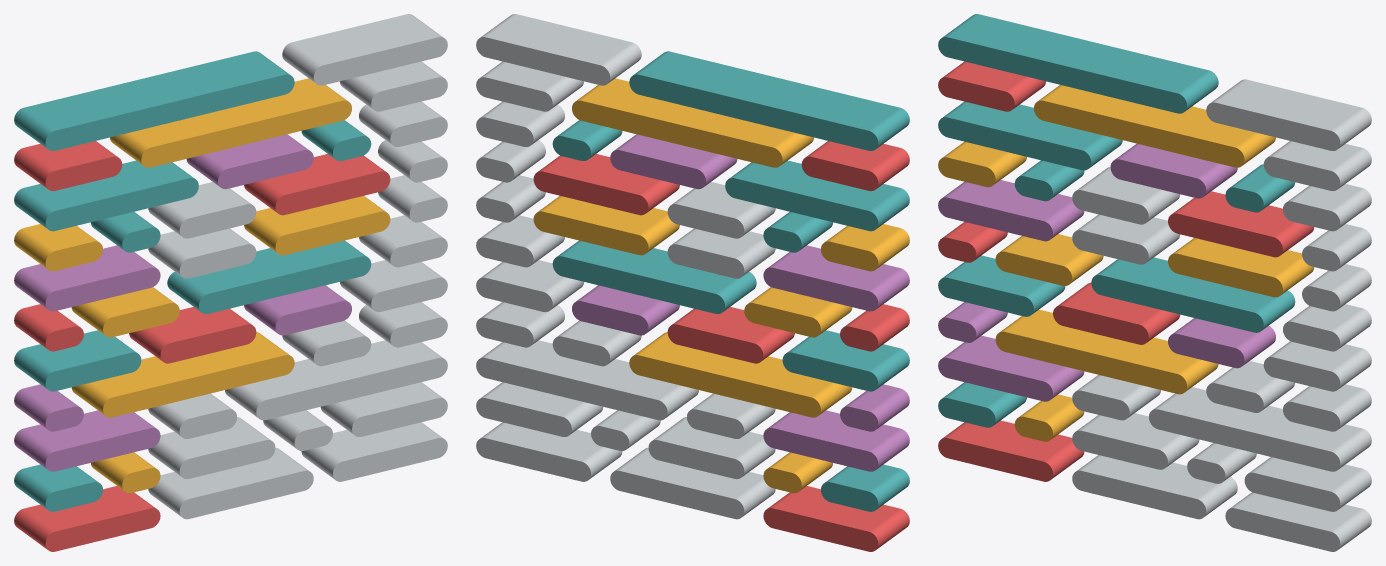
The model's file is prettier.gltf.
3 renders of one model, left to right at view 1: azimuth 30°, elevation 25°; view 2: azimuth 150°, elevation 25°; view 3: azimuth 330°, elevation 25°, orthographic.
Bounding box in the file's own units: 5 × 5 × 0.678.
